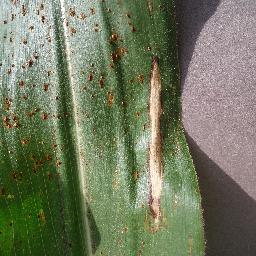Corn_Blight: (146, 50, 166, 231), (0, 0, 49, 26), (0, 54, 40, 77), (13, 108, 52, 130), (55, 91, 63, 172), (5, 170, 23, 202), (64, 23, 103, 36), (29, 154, 54, 173), (105, 3, 130, 21), (5, 28, 33, 44), (66, 7, 97, 21), (1, 88, 11, 131), (111, 31, 124, 63), (106, 92, 128, 109), (83, 58, 96, 85), (129, 163, 143, 187), (114, 224, 130, 244), (16, 80, 28, 104), (36, 207, 49, 226), (97, 68, 107, 91), (82, 87, 95, 102), (136, 237, 146, 256), (43, 69, 51, 91), (145, 0, 155, 16), (17, 136, 32, 146), (136, 73, 146, 88), (131, 8, 136, 36)
